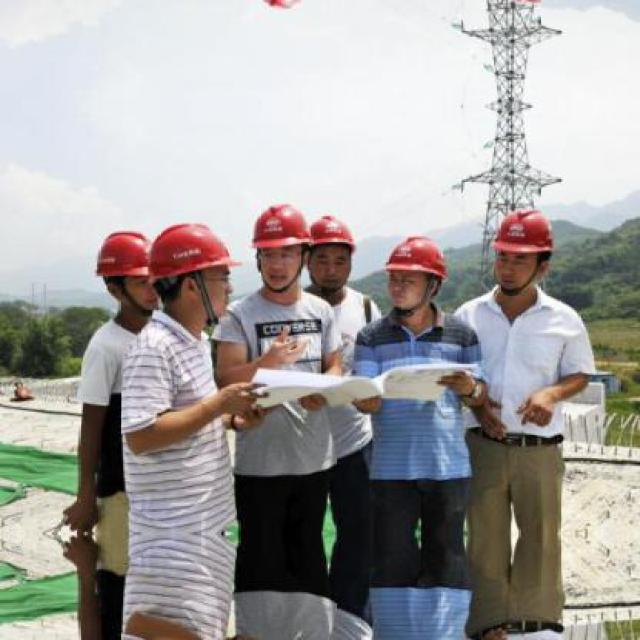helmet: (144, 219, 224, 319), (492, 198, 560, 294), (90, 223, 159, 314), (379, 230, 448, 318), (250, 202, 310, 290), (301, 208, 361, 287)
